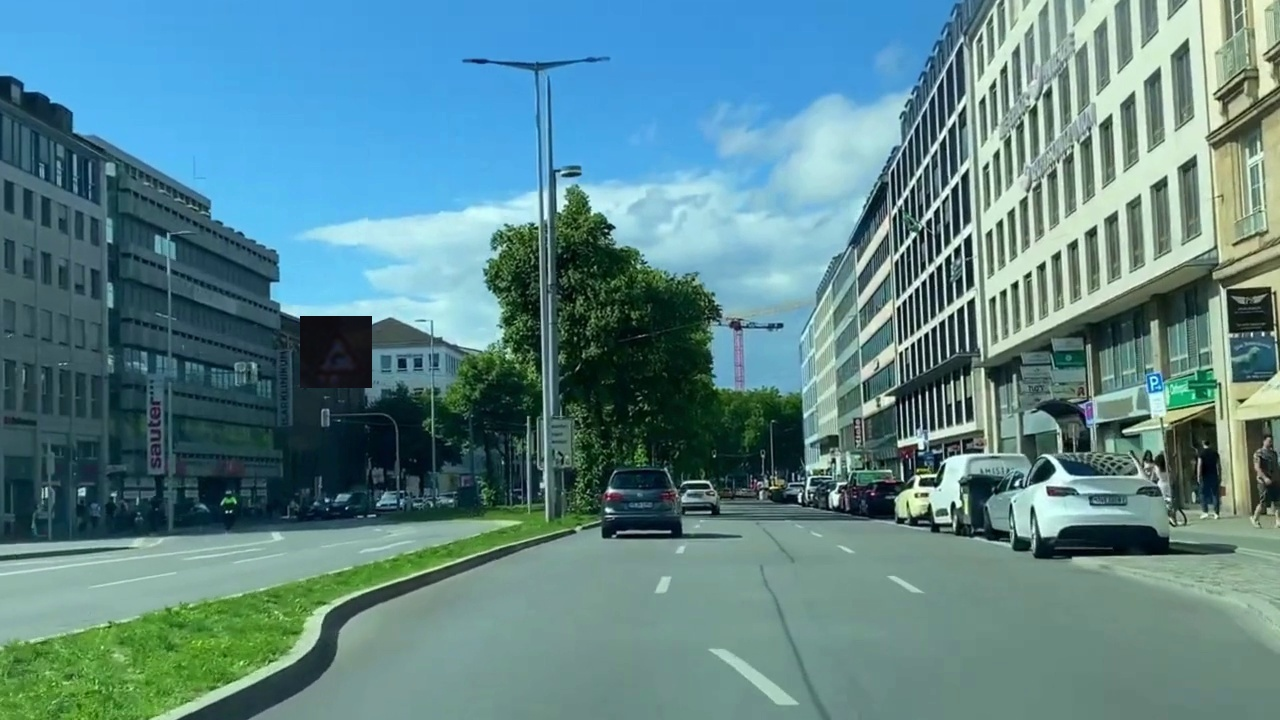Curve right: (300, 316, 372, 388)
